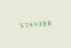eight: (47, 18, 51, 26), (42, 19, 46, 26)
five: (17, 21, 21, 29)
four: (27, 20, 31, 28), (32, 20, 36, 27)
seven: (22, 21, 26, 28)
three: (37, 19, 41, 27)
